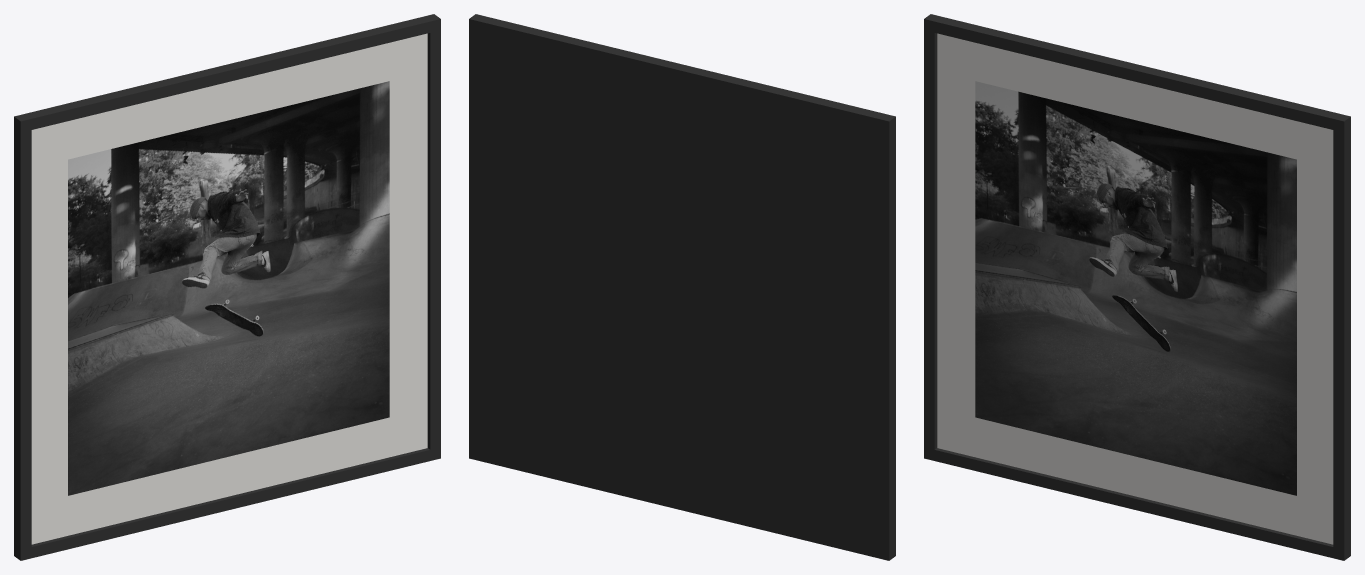
Rendered from kickflip-60.gltf.
The picture shows the model from 3 angles, left to right: view 1: azimuth 30°, elevation 25°; view 2: azimuth 150°, elevation 25°; view 3: azimuth 330°, elevation 25°; orthographic projection.
Parts seen in each view (by area): view 1: tavla; view 2: tavla; view 3: tavla.
Boxes of the visible parts, left/top/right/bottom form: tavla: left=14, top=14, right=440, bottom=560; tavla: left=469, top=14, right=895, bottom=560; tavla: left=924, top=14, right=1350, bottom=560.
Size of the model in its own units: 0.7839 by 0.7835 by 0.022.
Materials: 3 (1 with a texture image).
